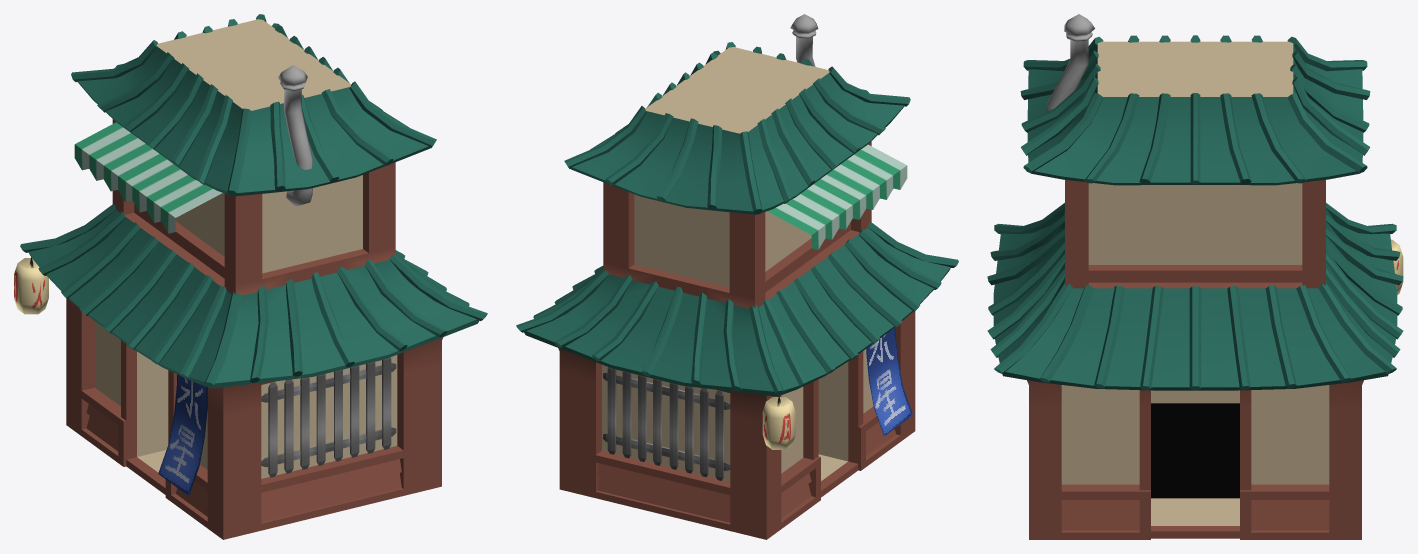
Rendered from house.glb.
3 renders of one model, left to right at view 1: azimuth 30°, elevation 25°; view 2: azimuth 150°, elevation 25°; view 3: azimuth 270°, elevation 25°, orthographic. The views are drawn at different scales.
Parts seen in each view (by area): view 1: Cube.001, Plane.001, Plane, Cylinder.001, Cylinder; view 2: Cube.001, Plane.001, Plane, Cylinder, Cylinder.001; view 3: Cube.001, Cylinder.001.
Part boxes in pixels (bbox=[...]): Cube.001: bbox=[20, 14, 487, 539]; Plane.001: bbox=[74, 122, 222, 233]; Plane: bbox=[158, 374, 207, 495]; Cylinder.001: bbox=[278, 65, 312, 206]; Cylinder: bbox=[14, 257, 48, 314]; Cube.001: bbox=[516, 42, 958, 539]; Plane.001: bbox=[767, 144, 907, 249]; Plane: bbox=[866, 327, 912, 436]; Cylinder: bbox=[762, 396, 795, 449]; Cylinder.001: bbox=[790, 14, 818, 66]; Cube.001: bbox=[987, 35, 1403, 539]; Cylinder.001: bbox=[1047, 14, 1094, 111].
Bounding box in the file's own units: 5.63 × 7.8 × 6.38.
5 materials, 5 textured.
